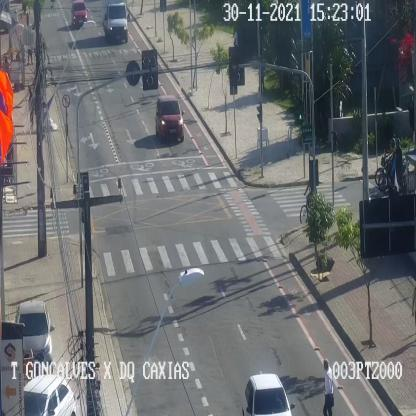bicycle: (300, 180, 322, 224)
car: (16, 300, 54, 368), (23, 374, 76, 416), (242, 374, 294, 416), (155, 96, 184, 141), (102, 0, 131, 41), (71, 1, 89, 27)
motorbike: (374, 138, 410, 183), (379, 139, 409, 193)
person: (322, 358, 334, 416)
